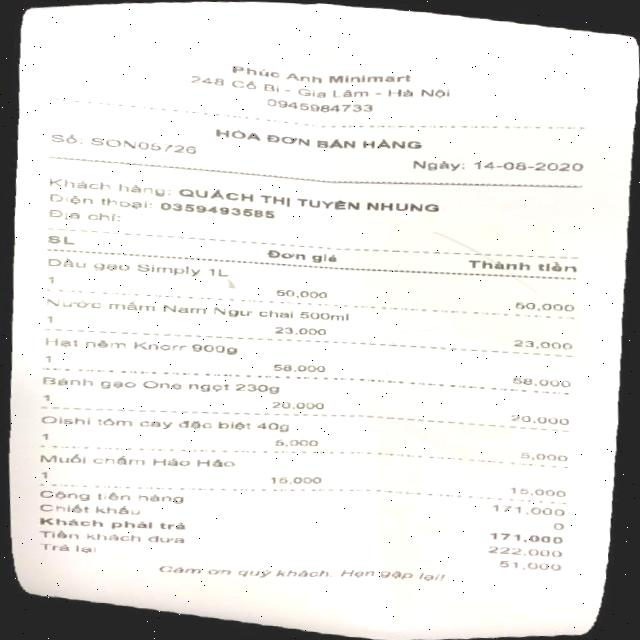Date: (469, 155, 590, 177)
Store_Name: (219, 60, 422, 90)
amount_number: (485, 528, 569, 546)
label_total: (33, 514, 194, 536)
